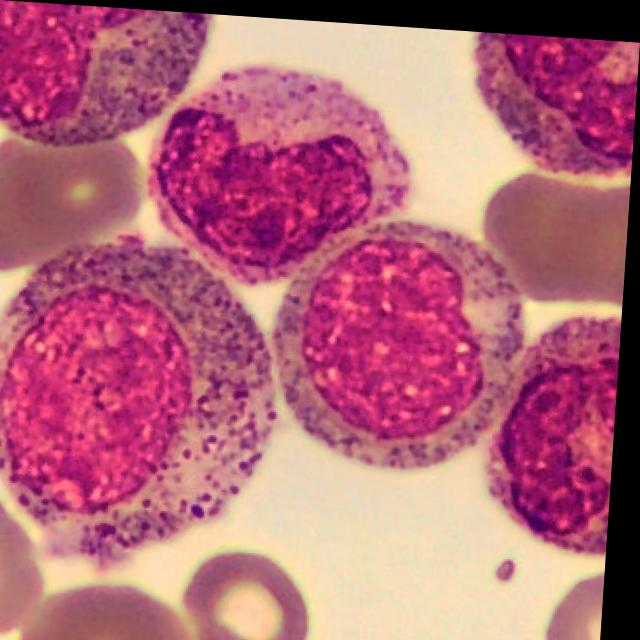Metamielocito: (274, 216, 529, 459), (152, 65, 409, 278)
Mielocito: (0, 237, 281, 557)
